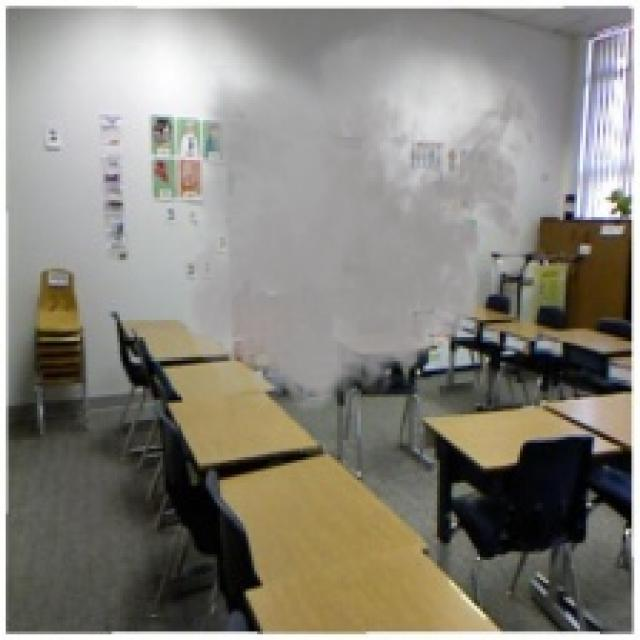smoke: (172, 11, 552, 426)
